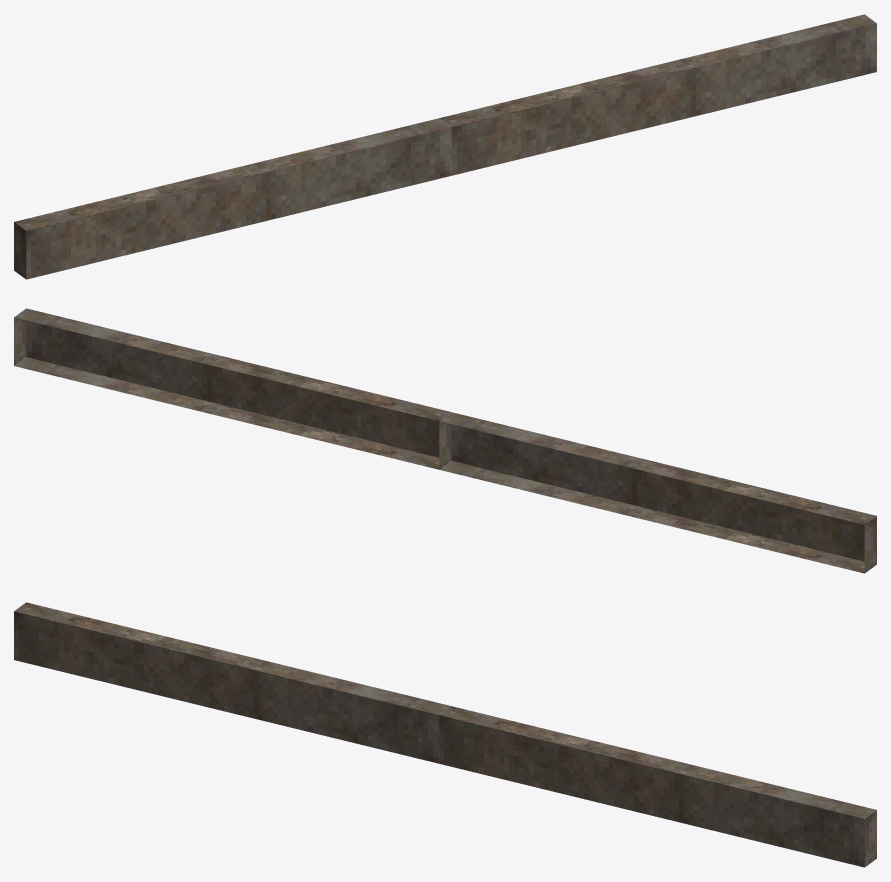
The model's file is wall_cladding_4m_narrow_02.gltf.
The picture shows the model from 3 angles, top to bottom: view 1: azimuth 30°, elevation 25°; view 2: azimuth 150°, elevation 25°; view 3: azimuth 330°, elevation 25°; orthographic projection.
Parts seen in each view (by area): view 1: wall_cladding_4m_narrow_02; view 2: wall_cladding_4m_narrow_02; view 3: wall_cladding_4m_narrow_02.
Part boxes in pixels (bbox=[...]): wall_cladding_4m_narrow_02: bbox=[14, 14, 876, 279]; wall_cladding_4m_narrow_02: bbox=[14, 308, 876, 573]; wall_cladding_4m_narrow_02: bbox=[14, 602, 876, 867].
Size of the model in its own units: 4 by 0.2188 by 0.1.
1 material, 1 textured.
